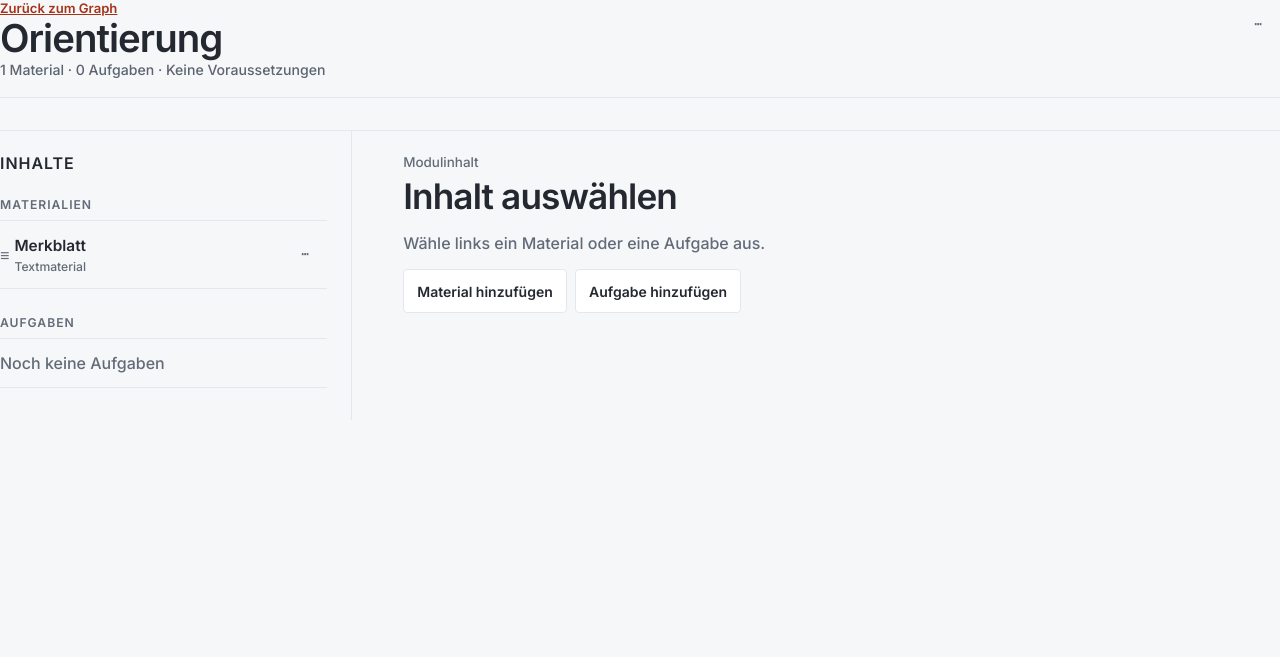
Test case: teacher node editor page › asks for confirmation before deleting modular content
This screenshot has width=1280, height=657.
Click the button "≡ Merkblatt Textmaterial": (50,245) [0, 221, 283, 288]
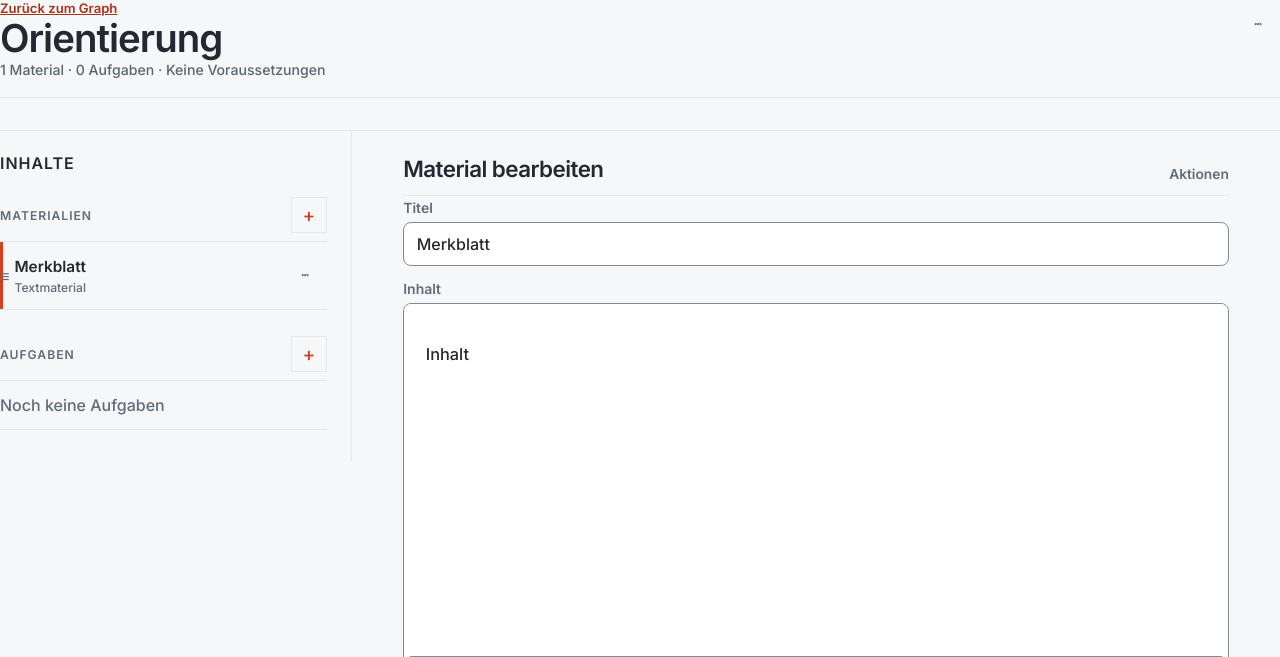
Click the heading "Aktionen": (1199,174) [1169, 166, 1229, 182]
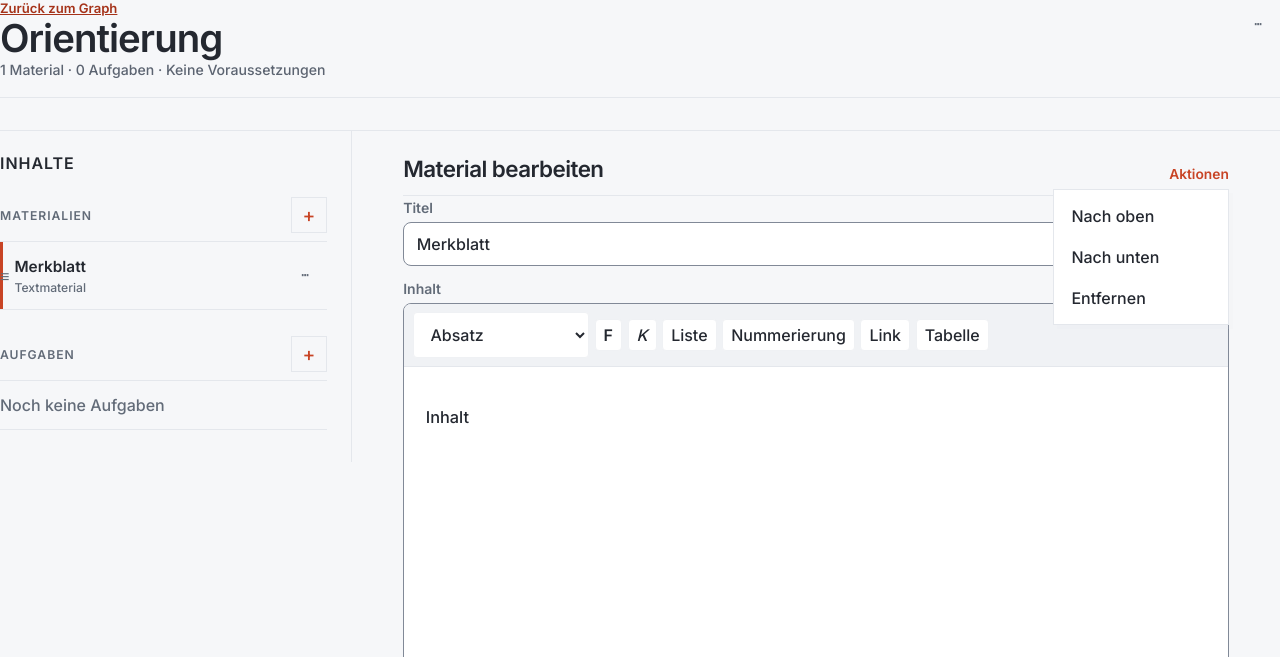
Click the button "Entfernen": (1141,298) [1061, 279, 1221, 316]
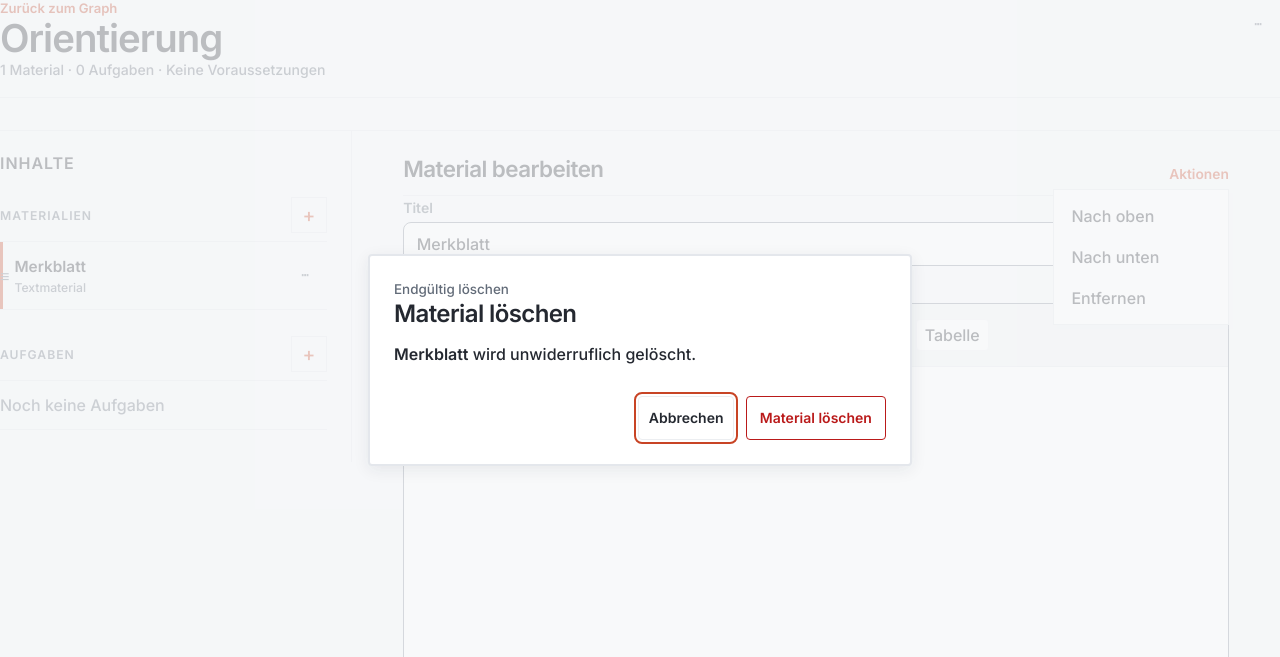
Now the dialog "Material löschen" is shown, box [368, 254, 912, 466]
Now the text "Merkblatt" is shown, box [394, 344, 468, 364]
Now the form named "confirmed" holds "1", box [638, 396, 886, 440]
